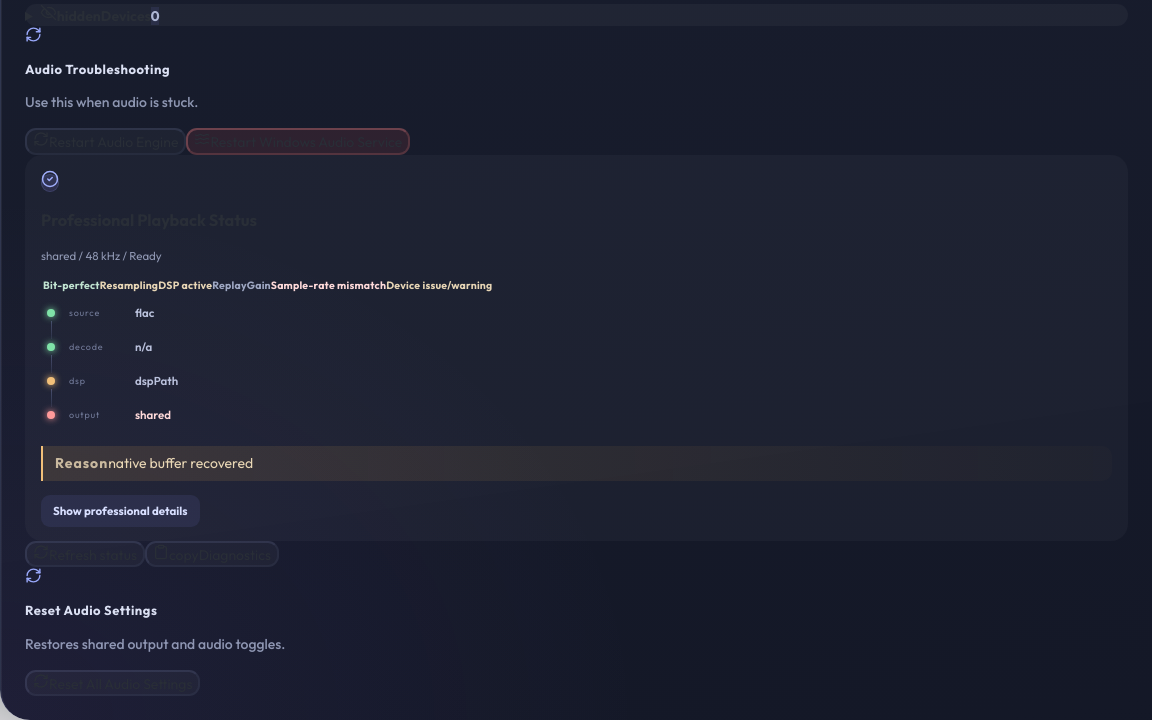
Test case: AudioSettingsDrawer controls › shows professional playback status badges without opening advanced output
(page scrolled)
Check: the text "Bit-perfect" is shown, box x1=43 y1=278 x2=100 y2=292
Check: the text "Resampling" is shown, box x1=100 y1=278 x2=158 y2=292
Click the button "Show professional details" at (120, 510), box x1=41 y1=494 x2=200 y2=526
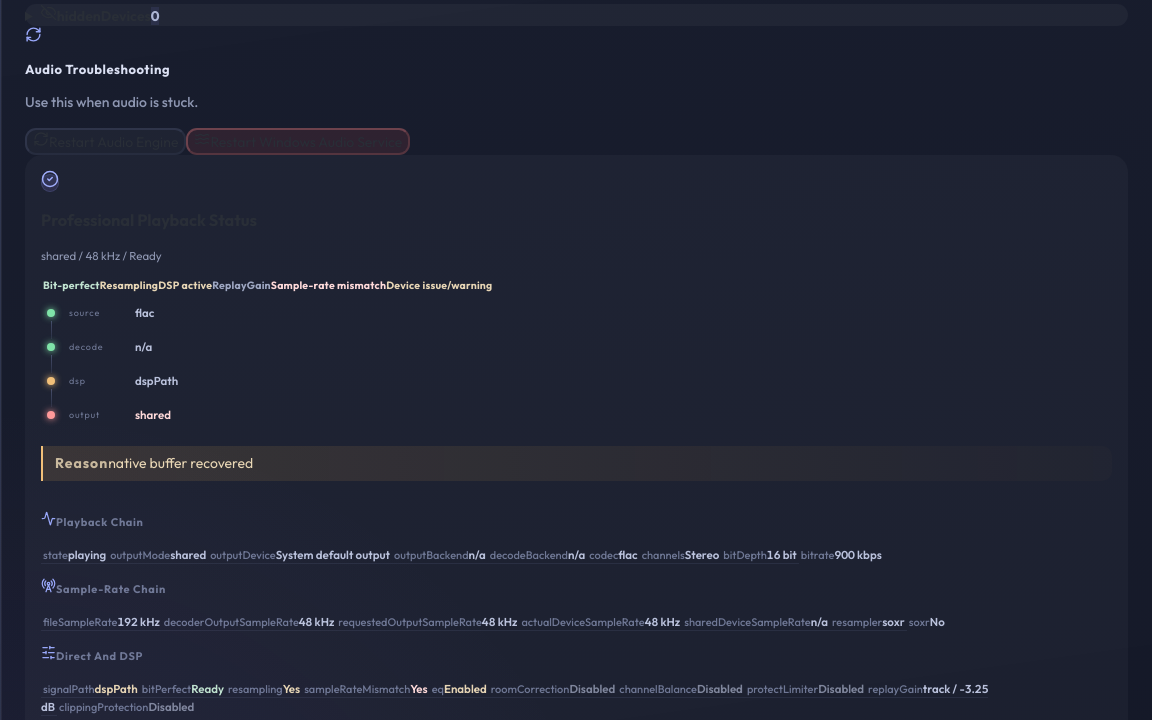
Check: the text "Direct And DSP" is shown, box x1=56 y1=649 x2=143 y2=663
